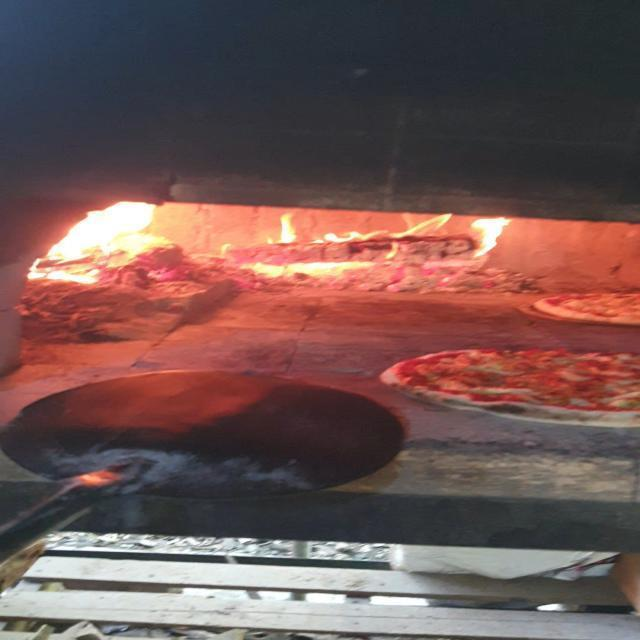smoke: (205, 203, 552, 311), (24, 198, 173, 288)
